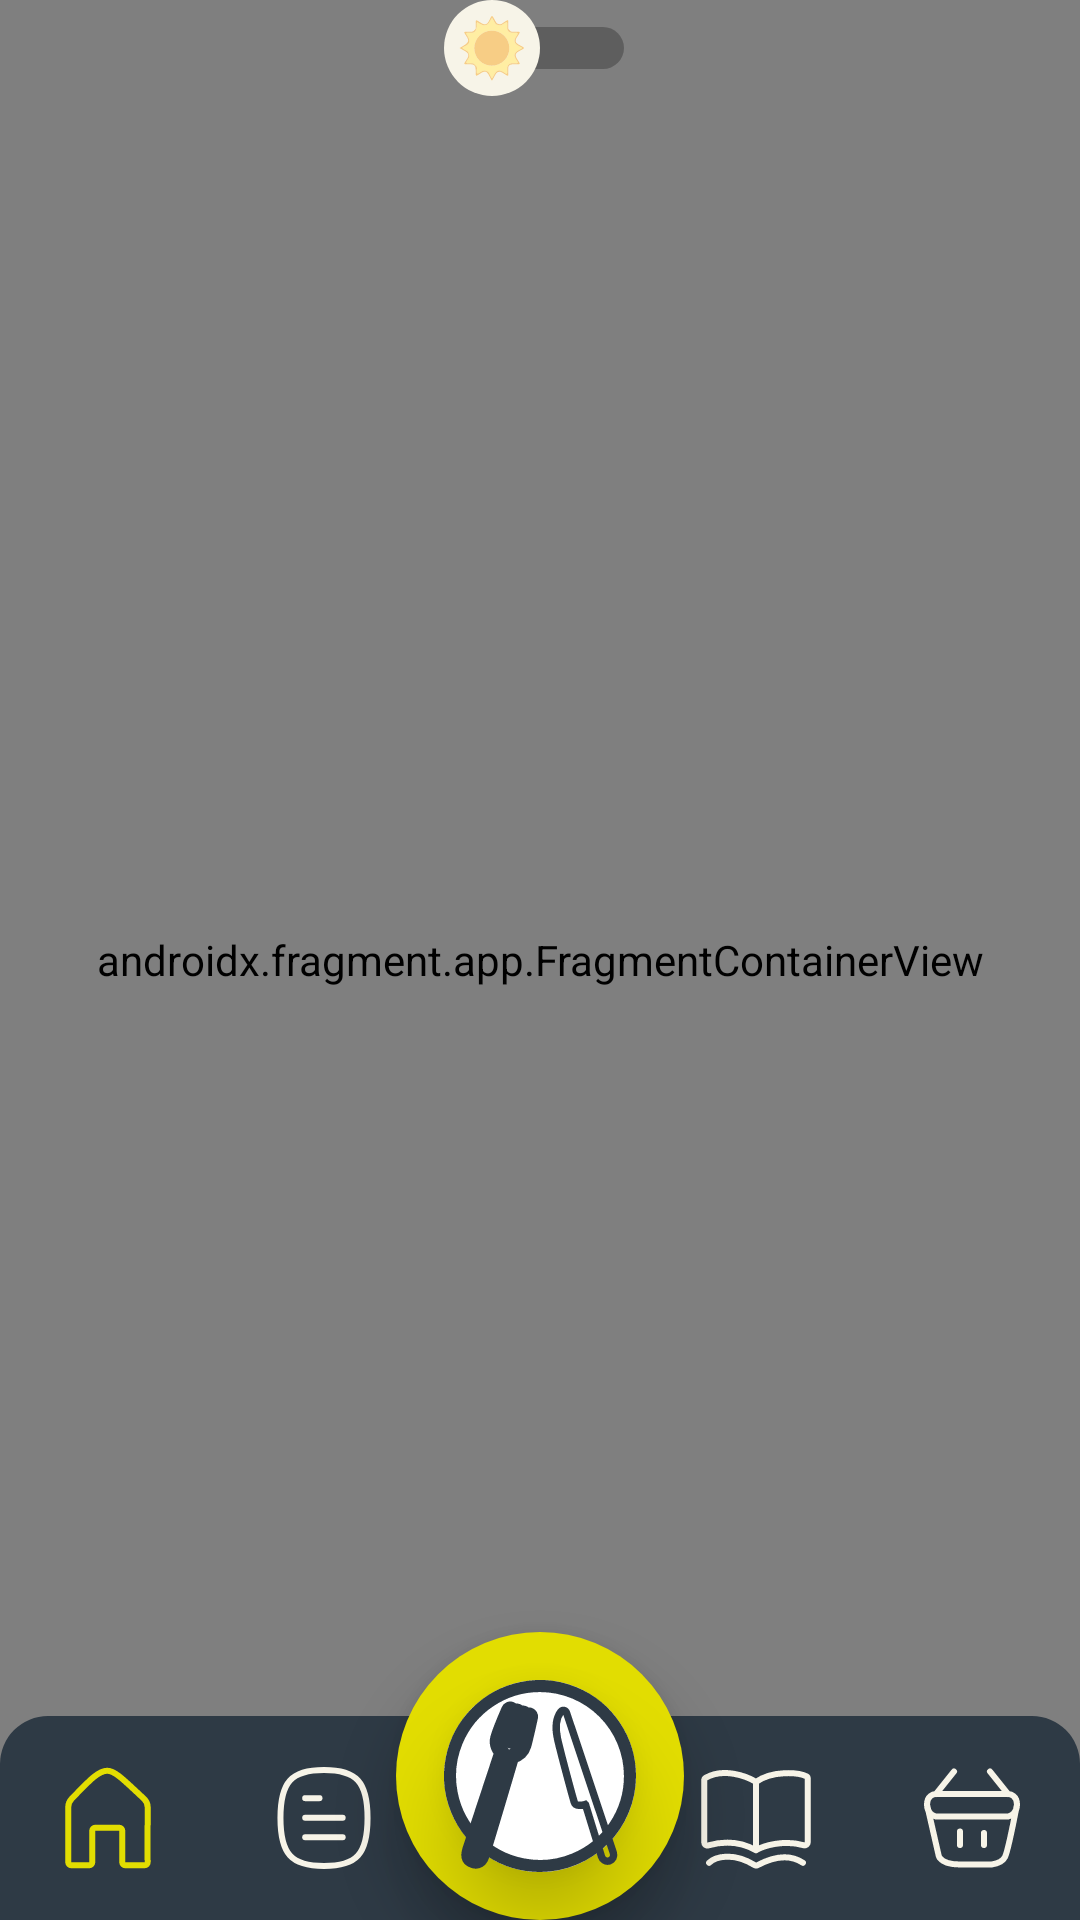

Where icons sit on this 1080*1920 app screen, as (x1, y1, x2, y2):
dish: (444, 1680, 636, 1872)
